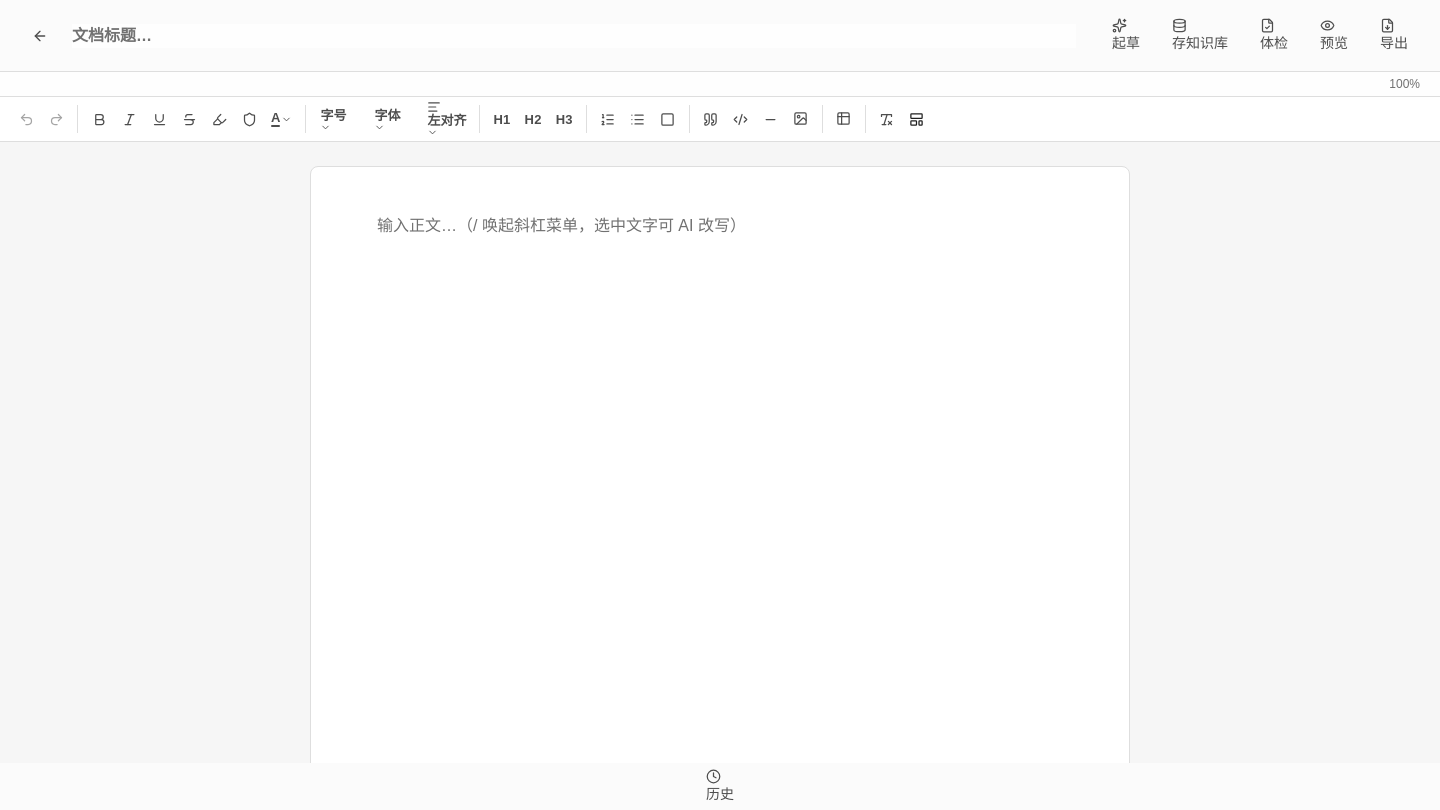
Scenario: 编辑器顶栏起草按钮 › 文档未加载完（doc=null）时点起草 → 面板仍应弹出（不依赖 doc 状态）
The width and height of the screenshot is (1440, 810).
Click the button "起草": (1126, 36) [1100,12,1152,59]
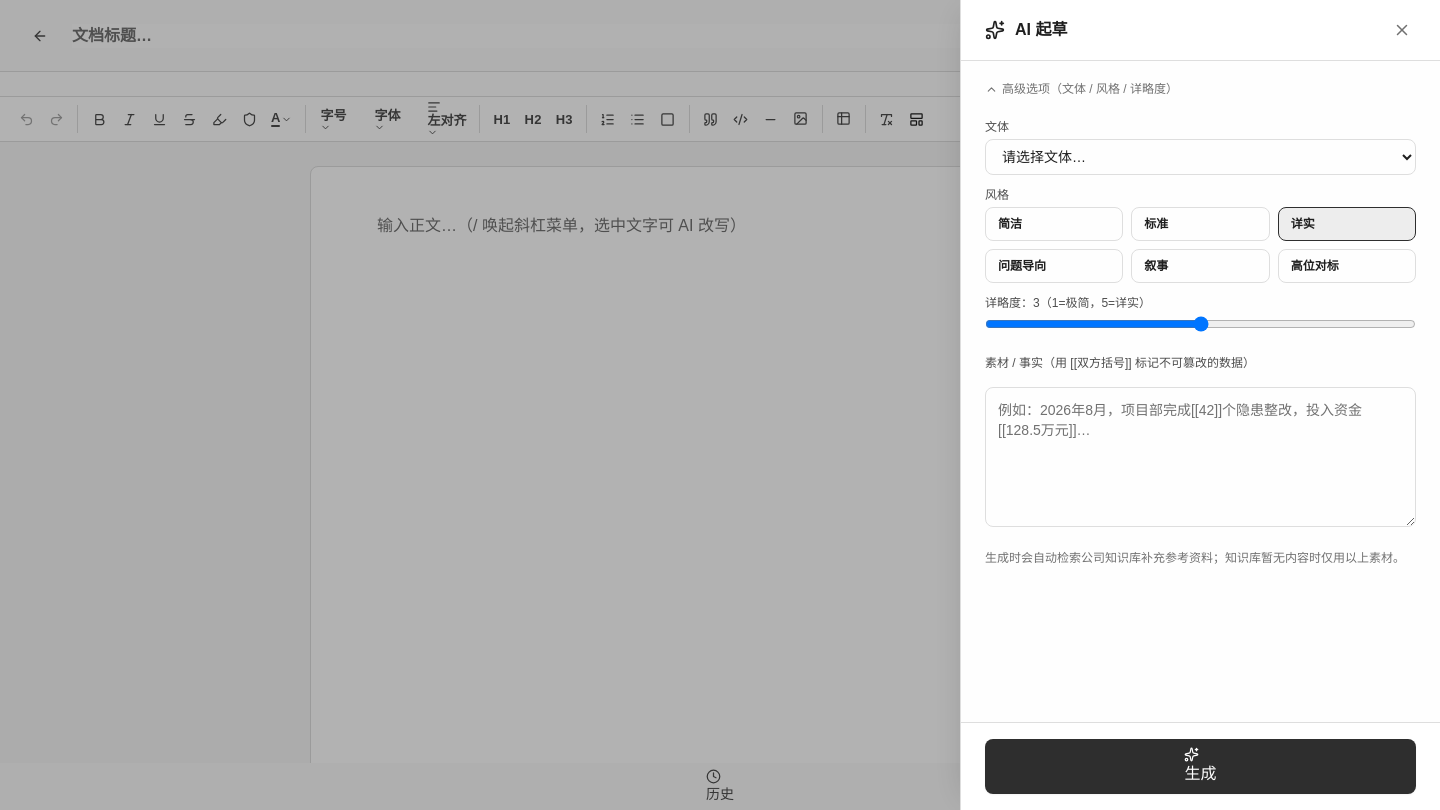
Now the heading "AI 起草" is shown, box [1015,18,1068,42]
